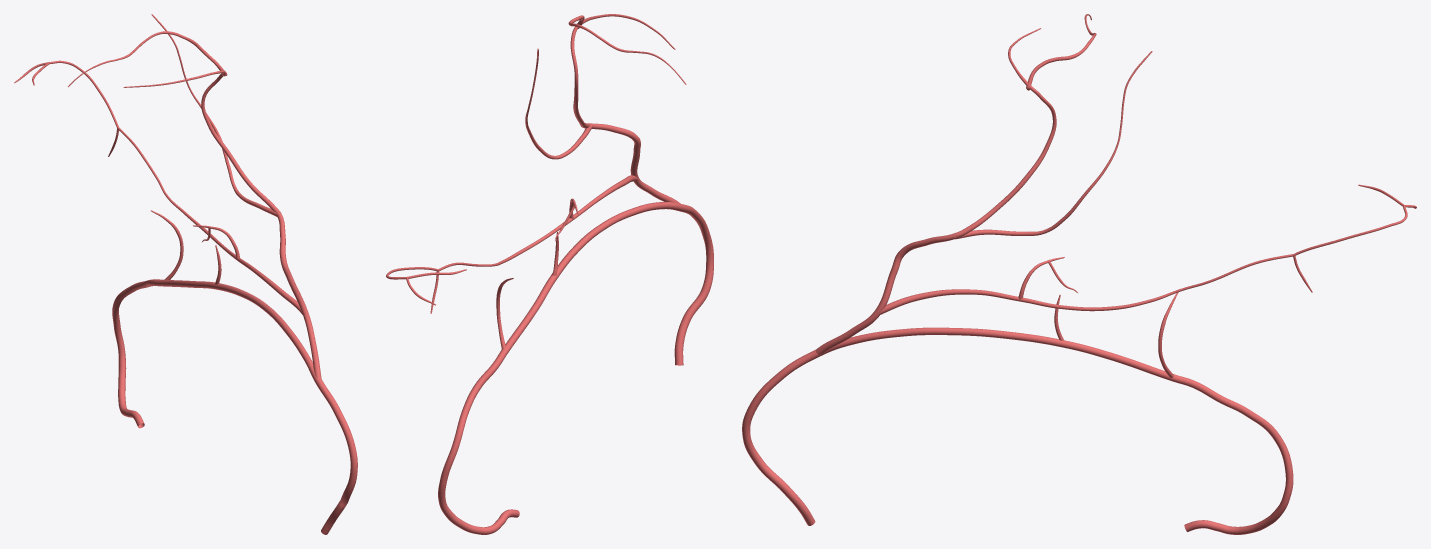
Rendered from Pericallosal_artery.r_BezierCurve.227.glb.
The picture shows the model from 3 angles, left to right: view 1: azimuth 30°, elevation 25°; view 2: azimuth 150°, elevation 25°; view 3: azimuth 270°, elevation 25°; orthographic projection. The views are drawn at different scales.
Parts seen in each view (by area): view 1: Pericallosal_artery.r_BezierCurve.227; view 2: Pericallosal_artery.r_BezierCurve.227; view 3: Pericallosal_artery.r_BezierCurve.227.
Part boxes in pixels (x1,y1,x2,y2): Pericallosal_artery.r_BezierCurve.227: [14, 14, 357, 534]; Pericallosal_artery.r_BezierCurve.227: [386, 14, 713, 534]; Pericallosal_artery.r_BezierCurve.227: [742, 14, 1416, 534].
Size of the model in its own units: 0.0312 by 0.0844 by 0.1064.
